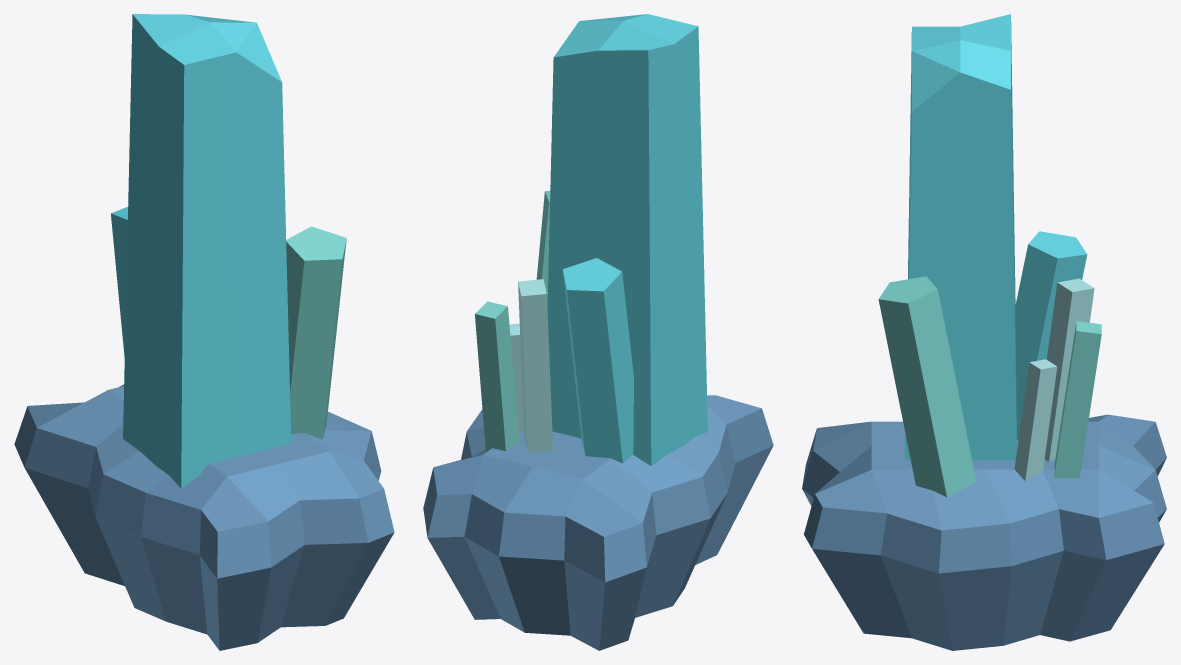
The model's file is Mushroom_Mineral_Small_01.fbx.
3 views of the same model, side by side, from view 1: azimuth 30°, elevation 25°; view 2: azimuth 150°, elevation 25°; view 3: azimuth 270°, elevation 25° (orthographic). The views are drawn at different scales.
Visible parts, largest first — view 1: Mineral_Small_01; view 2: Mineral_Small_01; view 3: Mineral_Small_01.
Boxes of the visible parts, x1,y1,x2,y2 form: Mineral_Small_01: (14,14,394,650); Mineral_Small_01: (423,14,773,650); Mineral_Small_01: (802,14,1166,650).
Size of the model in its own units: 115 by 242 by 144.
